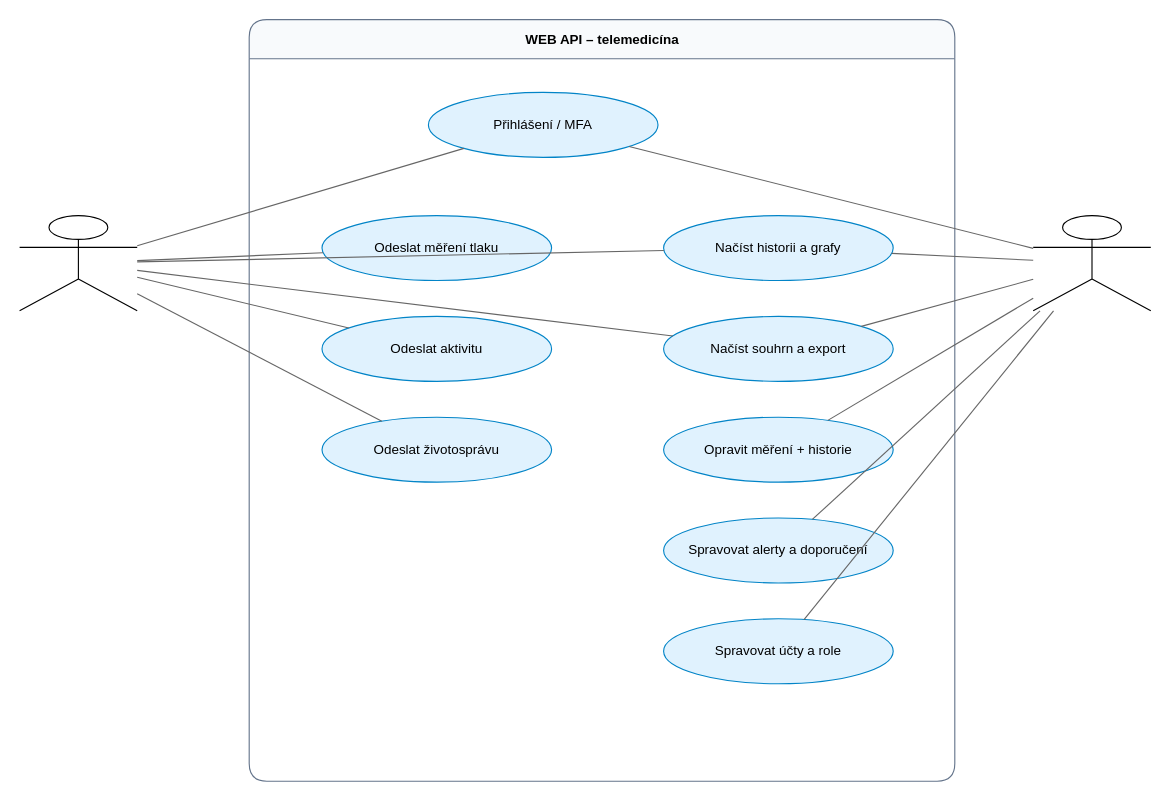
The diagram is 1170 pixels wide and 801 high, and some of its shapes have lost their labels. Each missing label, with the centre of its shape:
"Mobilní aplikace" goes at point (77, 262).
"Webový portál" goes at point (1091, 262).
